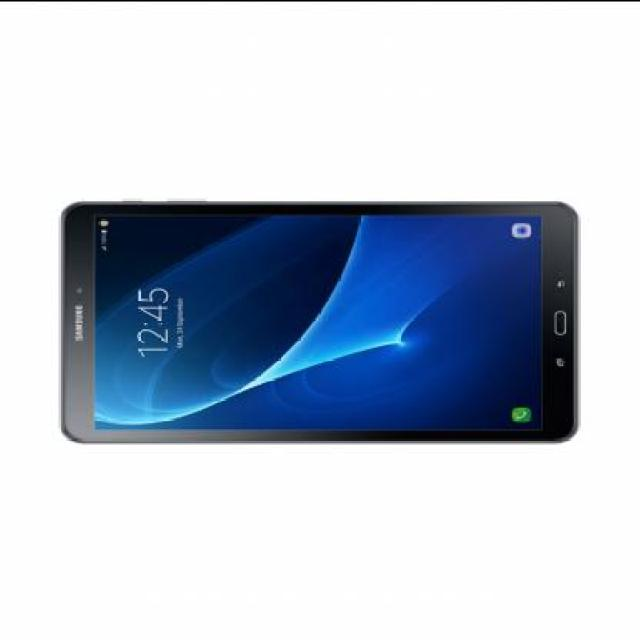smart phone: (15, 80, 629, 514)
